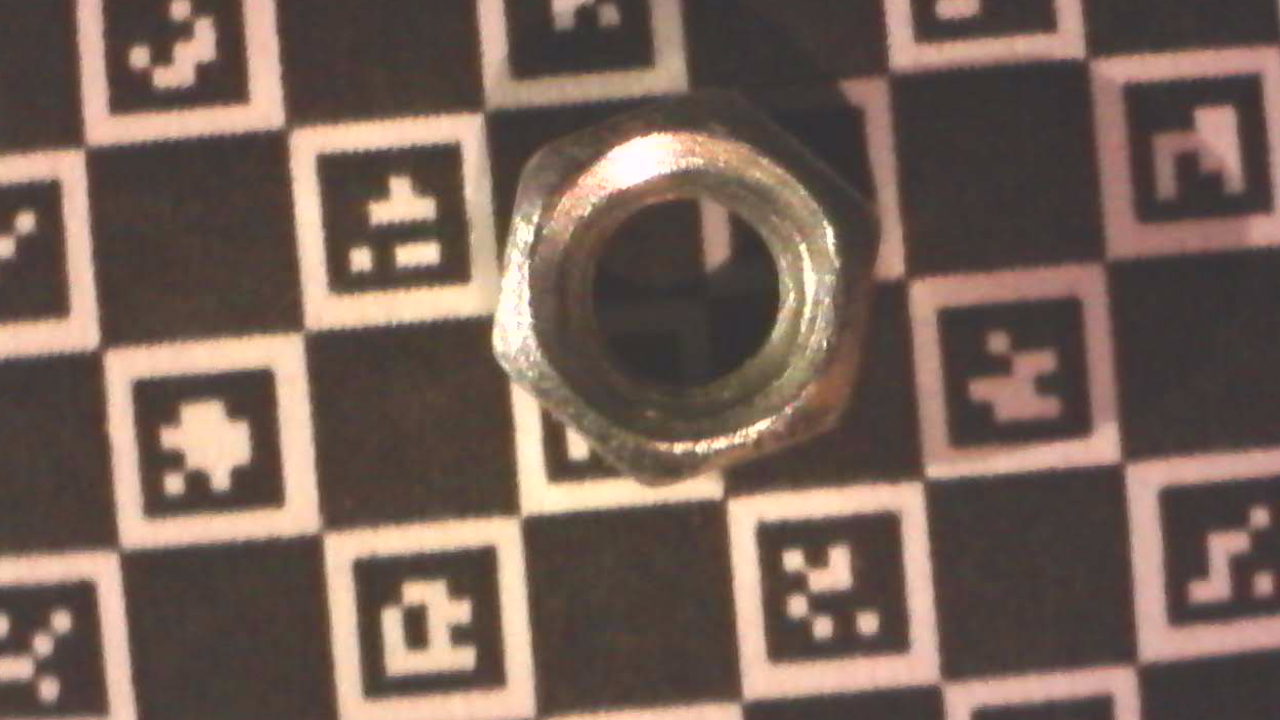Bolt: (486, 85, 879, 494)
